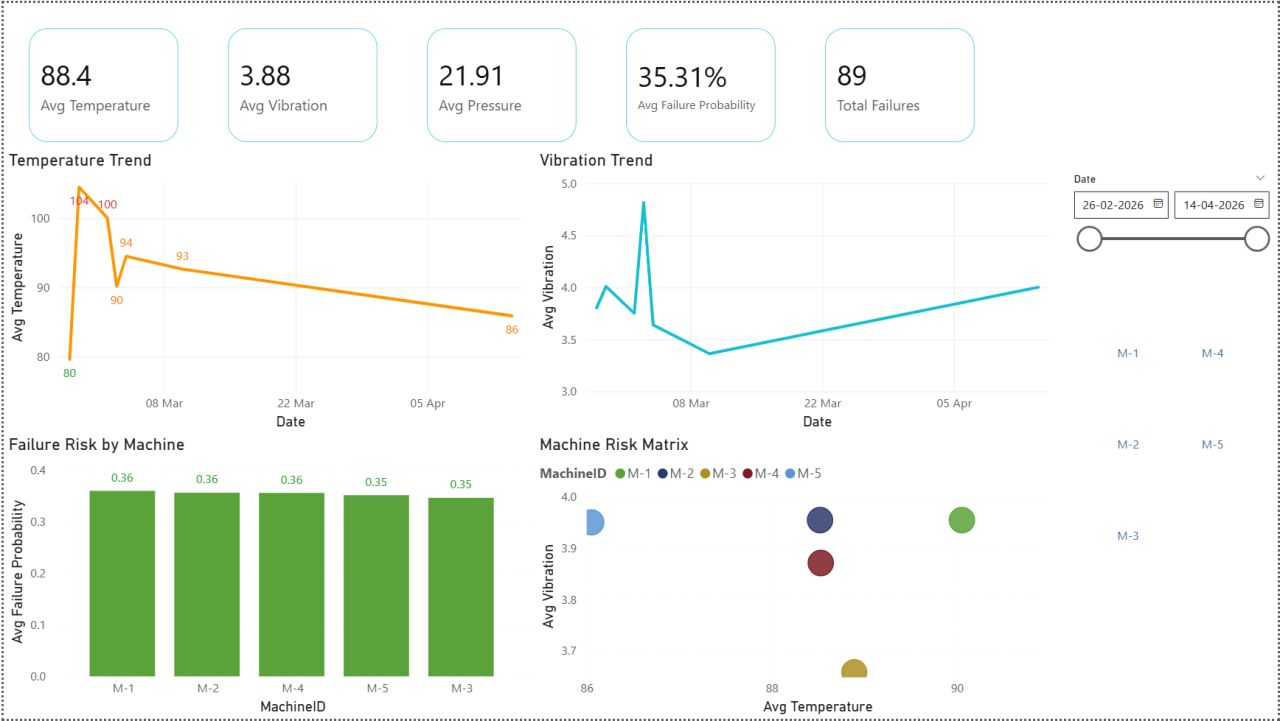

The dashboard page shown, as its layout file describes it:
{"tool":"powerbi","page":{"name":"Machine Health Dashboard","canvas":[1280,720],"ordinal":1},"visuals":[{"type":"cardVisual","fields":{"Data":["_Measures.Avg Temperature"]},"box":[0,0,200,165.6],"z":0},{"type":"cardVisual","fields":{"Data":["_Measures.Avg Vibration"]},"box":[200,0,200,165.6],"z":1000},{"type":"cardVisual","fields":{"Data":["_Measures.Avg Pressure"]},"box":[400,0,200,165.6],"z":2000},{"type":"cardVisual","fields":{"Data":["_Measures.Avg Failure Probability"]},"box":[600,0,200,165.6],"z":3000},{"type":"cardVisual","fields":{"Data":["_Measures.Total Failures"]},"box":[800,0,200,165.6],"z":4000},{"type":"lineChart","title":"Temperature Trend","fields":{"Category":["Date_Table.Date"],"Y":["_Measures.Avg Temperature"]},"box":[0,147.8,533.3,285.6],"z":5000},{"type":"lineChart","title":"Vibration Trend","fields":{"Category":["Date_Table.Date"],"Y":["_Measures.Avg Vibration"]},"box":[533.3,147.8,528.9,285.6],"z":6000},{"type":"clusteredColumnChart","title":"Failure Risk by Machine","fields":{"Category":["Machine_Dimension.MachineID"],"Y":["_Measures.Avg Failure Probability"]},"box":[0,433.3,533.3,286.7],"z":7000},{"type":"scatterChart","title":"Machine Risk Matrix","fields":{"X":["_Measures.Avg Temperature"],"Y":["_Measures.Avg Vibration"],"Size":["_Measures.Avg Failure Probability"],"Series":["Machine_Dimension.MachineID"]},"box":[533.3,433.3,528.9,286.7],"z":8000},{"type":"slicer","fields":{"Values":["Date_Table.Date"]},"box":[1062.2,165.6,217.8,110],"z":9000},{"type":"slicer","fields":{"Values":["Machine_Dimension.MachineID"]},"box":[1062.2,300,217.8,286.7],"z":10000}]}

Visuals, with their boxes in screenshot pixels (x1, y1, x2, y2), scaled from the page's 1280x720 canvas onto the 1280x721 screenshot:
cardVisual - _Measures.Avg Temperature: <bbox>0, 0, 200, 166</bbox>
cardVisual - _Measures.Avg Vibration: <bbox>200, 0, 400, 166</bbox>
cardVisual - _Measures.Avg Pressure: <bbox>400, 0, 600, 166</bbox>
cardVisual - _Measures.Avg Failure Probability: <bbox>600, 0, 800, 166</bbox>
cardVisual - _Measures.Total Failures: <bbox>800, 0, 1000, 166</bbox>
"Temperature Trend" lineChart: <bbox>0, 148, 533, 434</bbox>
"Vibration Trend" lineChart: <bbox>533, 148, 1062, 434</bbox>
"Failure Risk by Machine" clusteredColumnChart: <bbox>0, 434, 533, 720</bbox>
"Machine Risk Matrix" scatterChart: <bbox>533, 434, 1062, 720</bbox>
slicer - Date_Table.Date: <bbox>1062, 166, 1279, 276</bbox>
slicer - Machine_Dimension.MachineID: <bbox>1062, 300, 1279, 588</bbox>
